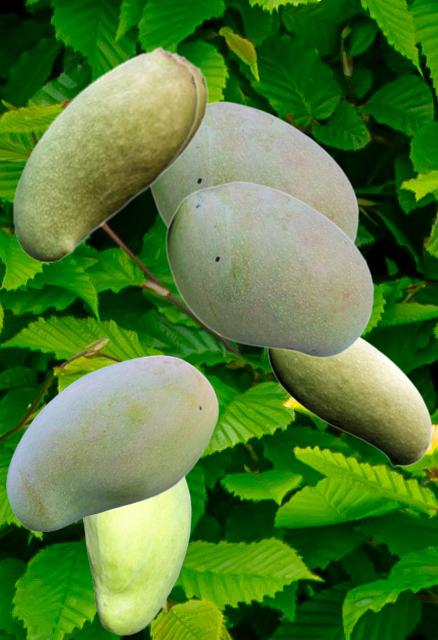green_mango: (12, 46, 198, 261), (6, 355, 218, 530), (165, 180, 373, 357), (150, 100, 358, 242), (267, 336, 431, 466), (98, 52, 207, 230), (83, 478, 190, 634)
